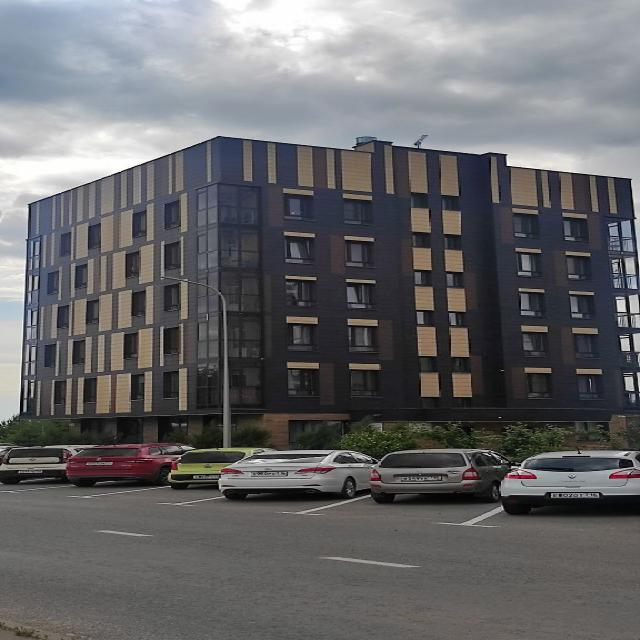Building: (19, 137, 640, 446)
